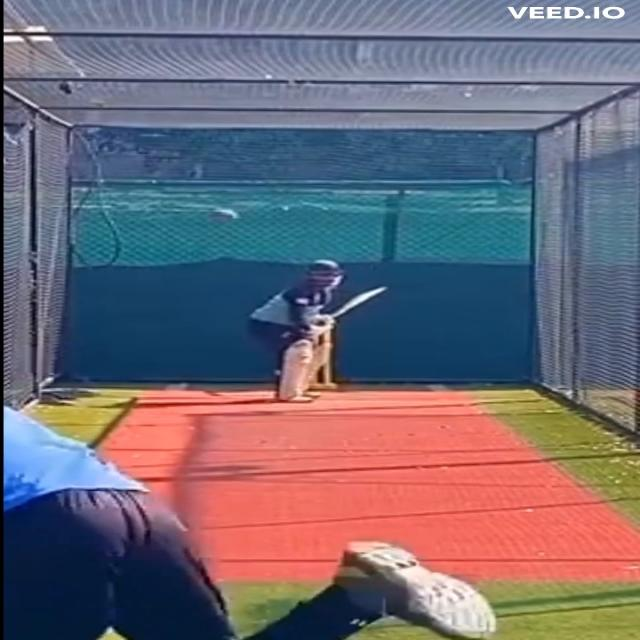ball: (202, 204, 244, 227)
